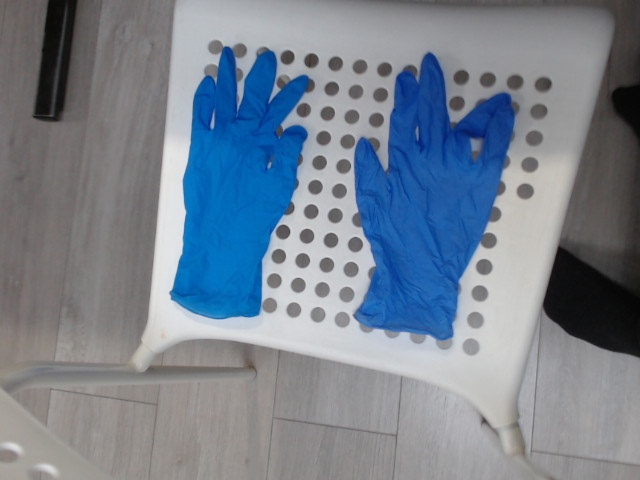medical_glove: (354, 52, 514, 340), (169, 46, 307, 318)
